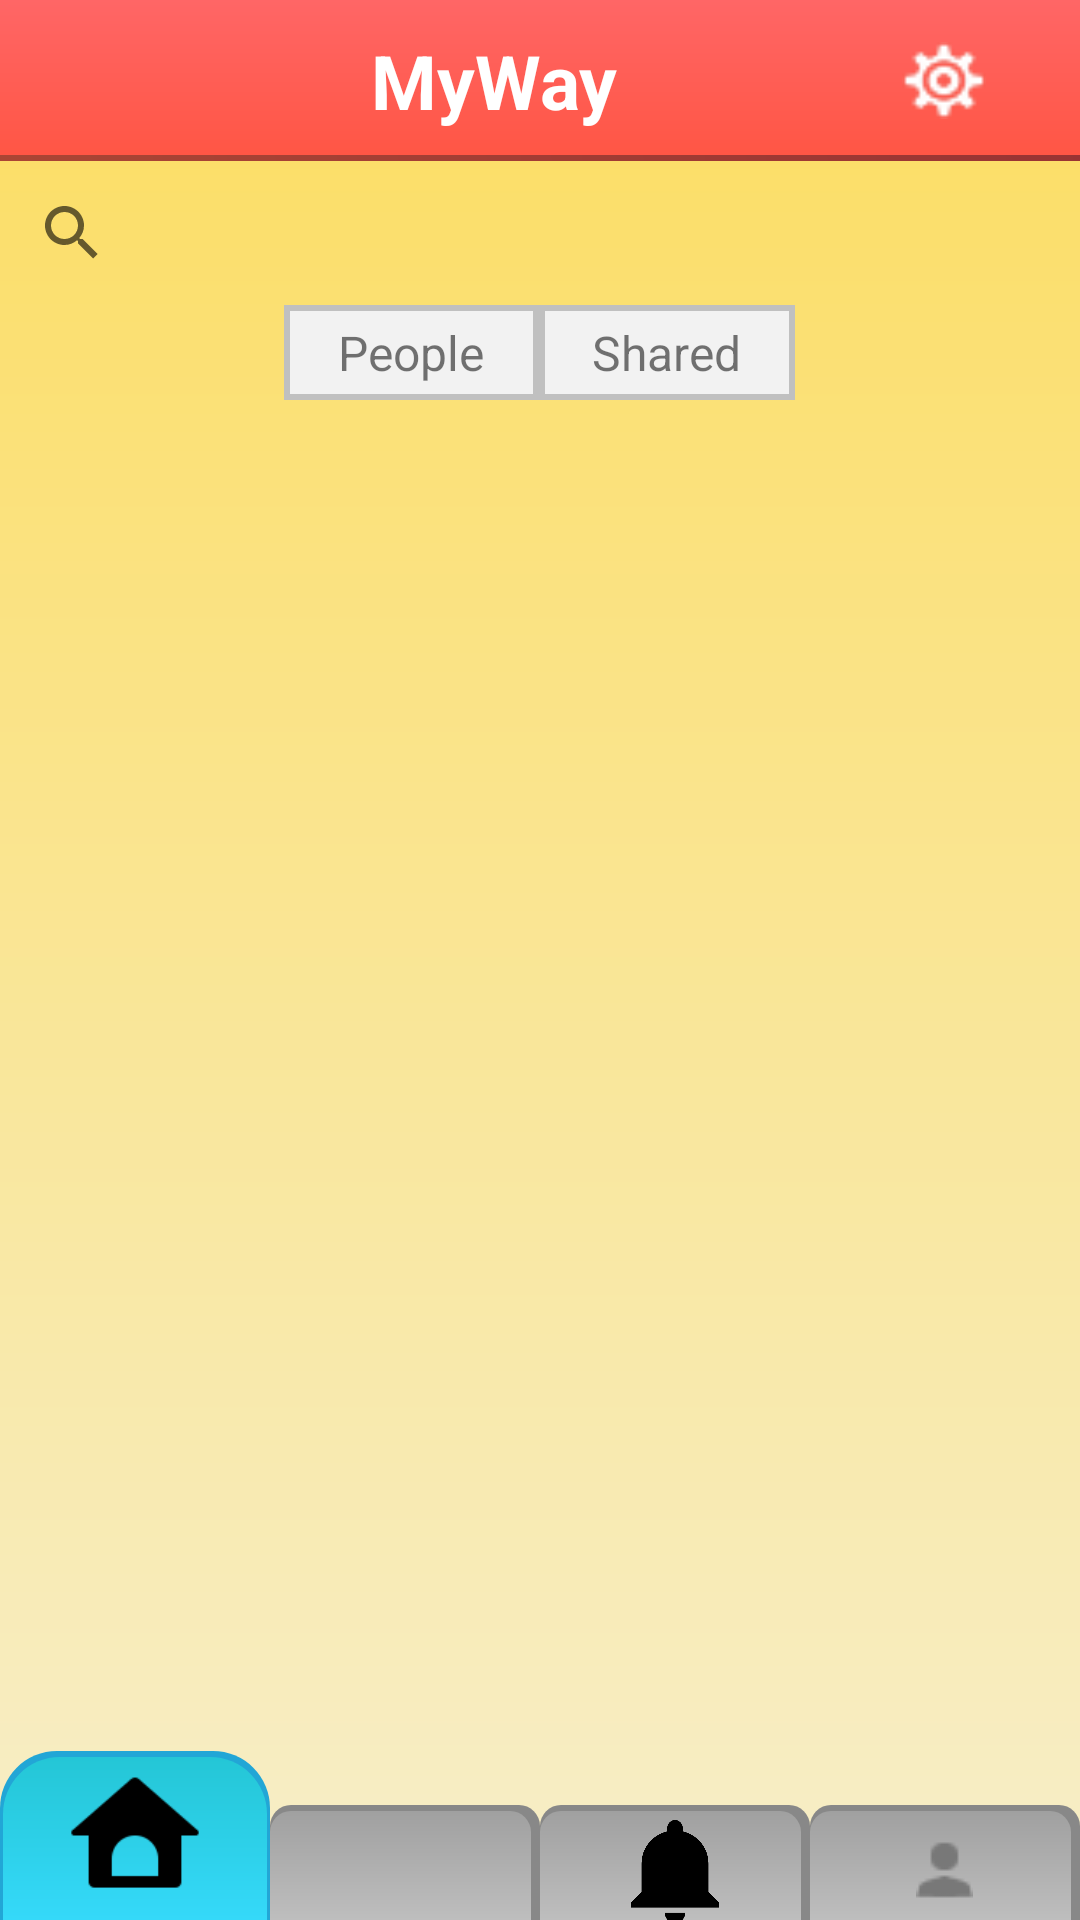

Icons on this 1080w x 1920h Android screen, each with the point to tap as (x,y):
home: (135,1835)
noti: (675,1870)
pro: (944,1869)
setting: (944,80)
